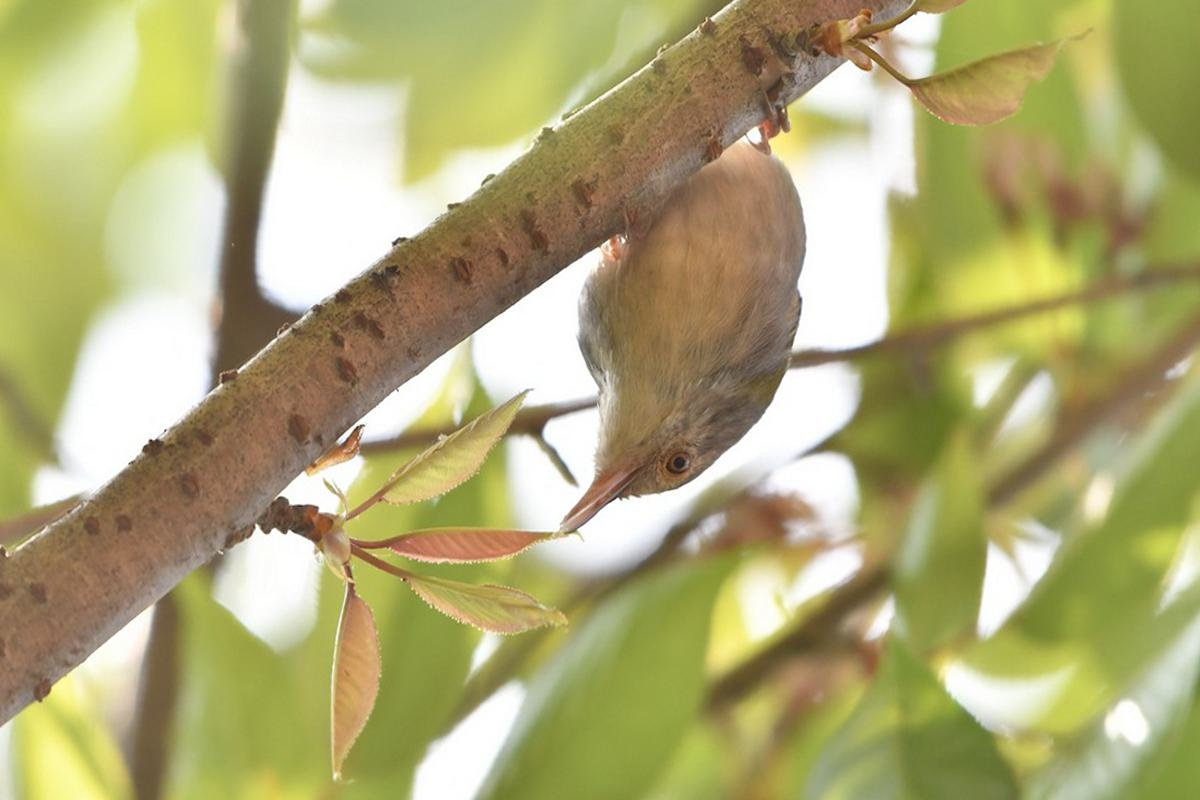tailorbird: (515, 72, 858, 564)
